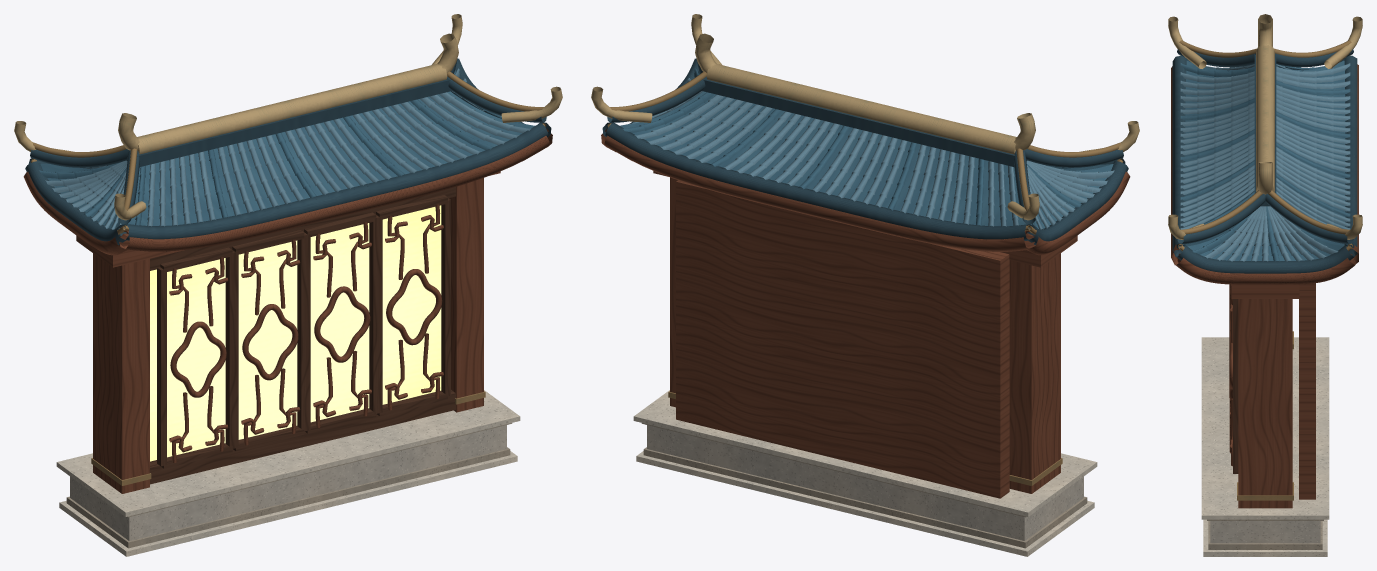
3 renders of one model, left to right at view 1: azimuth 30°, elevation 25°; view 2: azimuth 150°, elevation 25°; view 3: azimuth 270°, elevation 25°, orthographic. The views are drawn at different scales.
Visible parts, largest first — view 1: RecessedSilkEmitter, CarvedWindowFrame_heartwood, FourRuyiLatticeCasements_walnut, EaveAndBracket_tileRound, StoneSill_stonePale, EaveAndBracket_glaze, EaveAndBracket_shadowTile, FourRuyiLatticeCasements_heartwood, StoneSill_stone, EaveAndBracket_gold, EaveAndBracket_heartwood, CarvedWindowFrame_walnut (+2 smaller); view 2: CarvedWindowFrame_heartwood, EaveAndBracket_tileRound, EaveAndBracket_glaze, EaveAndBracket_shadowTile, StoneSill_stonePale, StoneSill_stone, EaveAndBracket_gold, EaveAndBracket_heartwood, StoneSill_carving, EaveAndBracket_bronze; view 3: EaveAndBracket_tileRound, CarvedWindowFrame_heartwood, StoneSill_stonePale, EaveAndBracket_glaze, EaveAndBracket_shadowTile, EaveAndBracket_gold, EaveAndBracket_heartwood, StoneSill_stone, EaveAndBracket_bronze, StoneSill_carving, FourRuyiLatticeCasements_walnut, FourRuyiLatticeCasements_heartwood (+1 smaller).
Part boxes in pixels (x1,y1,x2,y2): RecessedSilkEmitter: [150, 205, 441, 461]; CarvedWindowFrame_heartwood: [93, 178, 483, 493]; FourRuyiLatticeCasements_walnut: [157, 195, 450, 468]; EaveAndBracket_tileRound: [45, 68, 531, 229]; StoneSill_stonePale: [56, 390, 520, 556]; EaveAndBracket_glaze: [39, 70, 535, 229]; EaveAndBracket_shadowTile: [25, 58, 551, 245]; FourRuyiLatticeCasements_heartwood: [169, 204, 443, 462]; StoneSill_stone: [70, 425, 506, 540]; EaveAndBracket_gold: [14, 14, 562, 220]; EaveAndBracket_heartwood: [23, 128, 552, 267]; CarvedWindowFrame_walnut: [150, 187, 455, 484]; CarvedWindowFrame_heartwood: [670, 177, 1060, 498]; EaveAndBracket_tileRound: [623, 78, 1114, 229]; EaveAndBracket_glaze: [620, 68, 1113, 229]; EaveAndBracket_shadowTile: [602, 58, 1128, 245]; StoneSill_stonePale: [633, 390, 1097, 556]; StoneSill_stone: [647, 425, 1083, 540]; EaveAndBracket_gold: [591, 14, 1139, 220]; EaveAndBracket_heartwood: [601, 128, 1130, 267]; StoneSill_carving: [641, 423, 1087, 548]; EaveAndBracket_bronze: [607, 71, 1123, 234]; EaveAndBracket_tileRound: [1177, 63, 1350, 261]; CarvedWindowFrame_heartwood: [1238, 283, 1315, 508]; StoneSill_stonePale: [1201, 337, 1329, 556]; EaveAndBracket_glaze: [1180, 60, 1350, 261]; EaveAndBracket_shadowTile: [1172, 49, 1357, 273]; EaveAndBracket_gold: [1168, 14, 1362, 239]; EaveAndBracket_heartwood: [1171, 64, 1358, 298]; StoneSill_stone: [1210, 521, 1320, 543]; EaveAndBracket_bronze: [1178, 40, 1352, 251]; StoneSill_carving: [1207, 519, 1323, 549]; FourRuyiLatticeCasements_walnut: [1233, 299, 1238, 473]; FourRuyiLatticeCasements_heartwood: [1229, 284, 1232, 466].
Bounding box in the file's own units: 5.35 × 4.69 × 2.18.
Materials: 11 (10 with a texture image).
